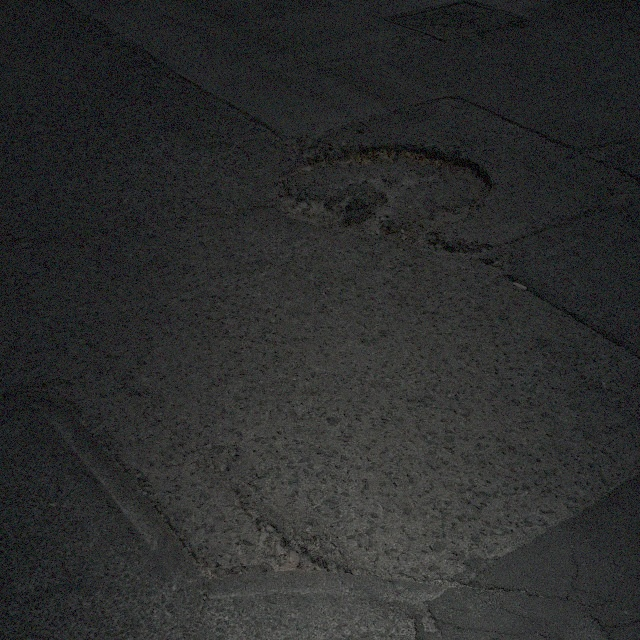pothole: (387, 202, 476, 264), (259, 517, 330, 577), (278, 185, 360, 236), (332, 145, 446, 171)
